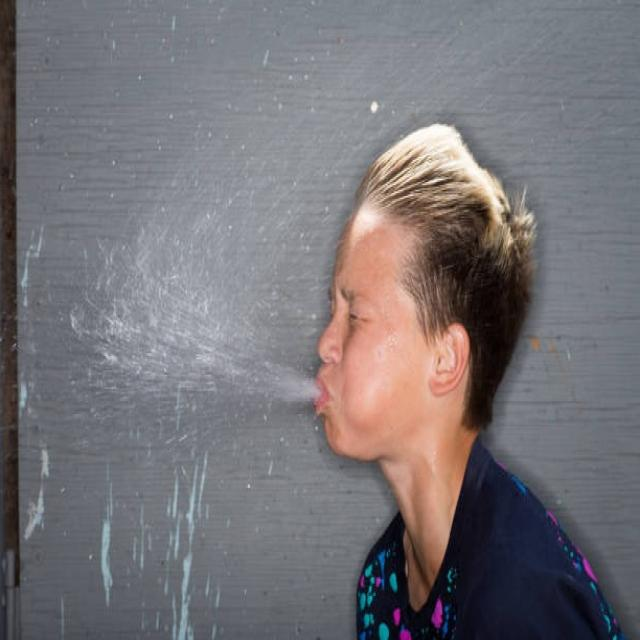Spitting: (272, 126, 538, 521)
